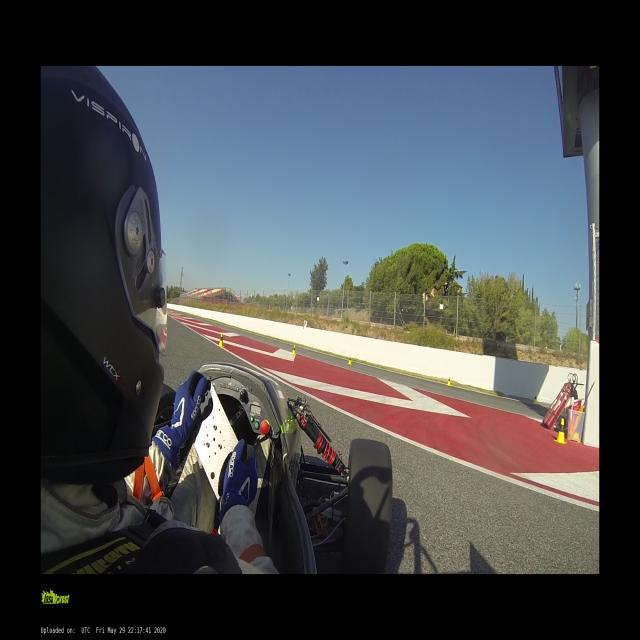yellow_cone: (554, 418, 567, 445), (218, 333, 224, 347), (292, 345, 296, 355), (534, 394, 538, 404), (447, 377, 451, 386), (348, 356, 351, 365)
